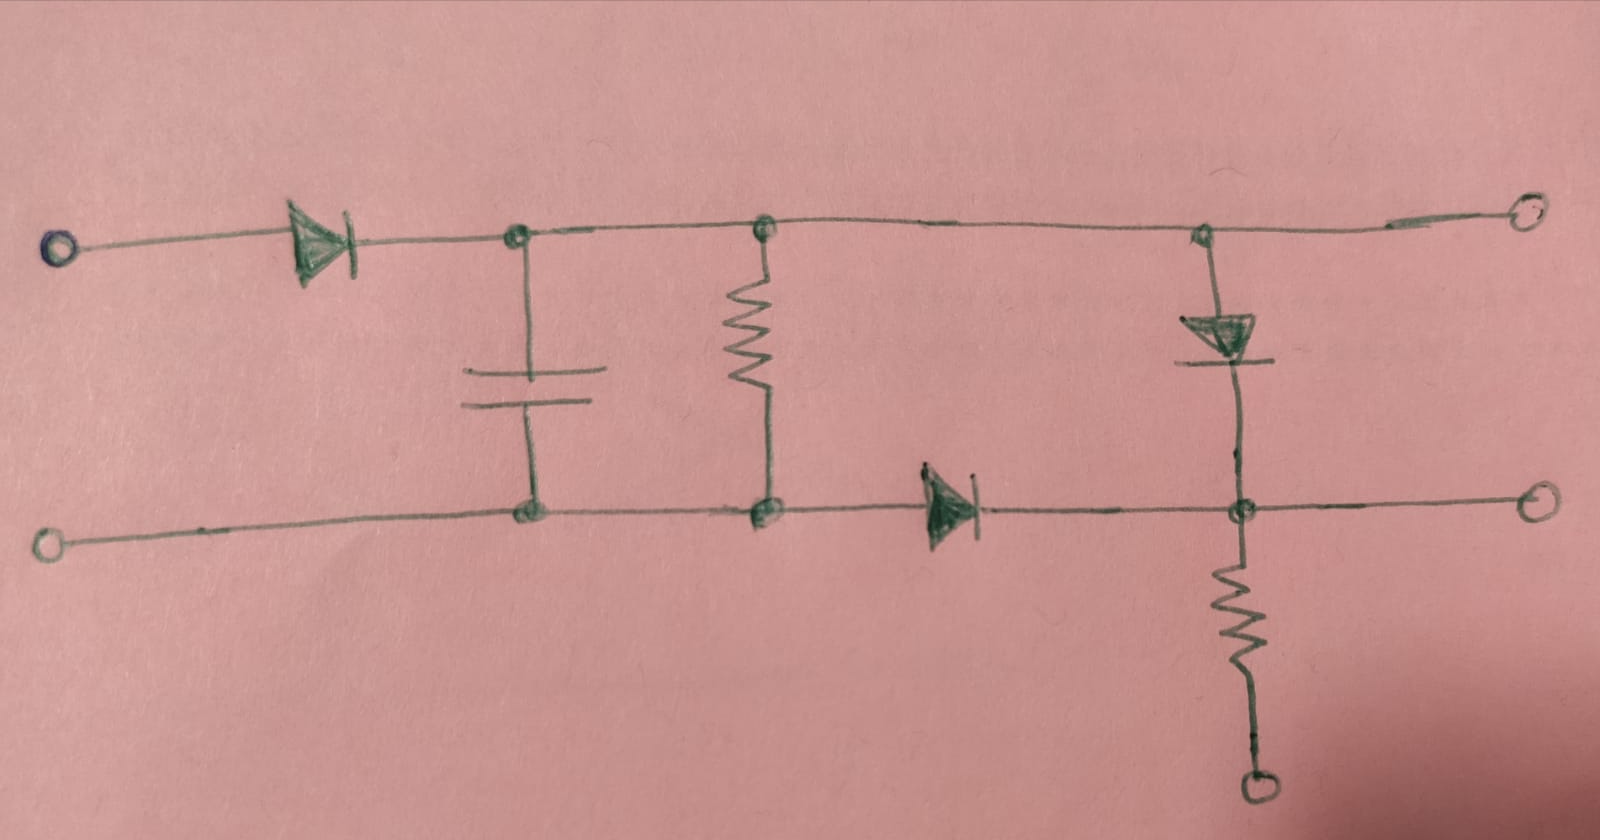capacitor.unpolarized: (462, 358, 601, 414)
diode: (279, 197, 366, 286), (913, 463, 988, 550), (1175, 308, 1274, 372)
junction: (742, 491, 795, 533), (1183, 214, 1228, 258), (508, 489, 557, 528), (497, 219, 545, 255), (743, 209, 787, 246), (1223, 491, 1262, 530)
resistor: (719, 271, 780, 396), (1202, 560, 1266, 679)
terminal: (1230, 760, 1286, 809), (1502, 186, 1551, 237), (34, 226, 90, 271), (1512, 475, 1561, 526), (25, 525, 77, 567)
